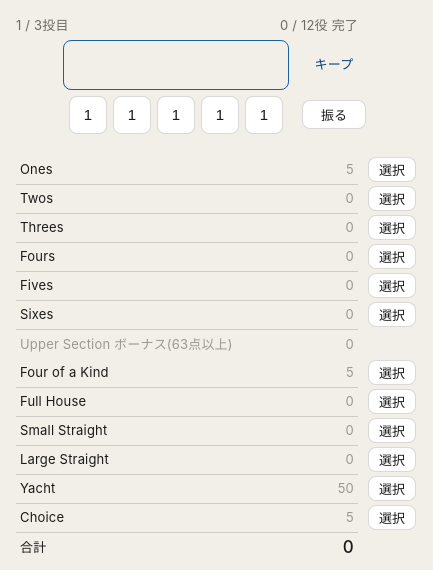
Test case: PlayScreen › 役を確定すると得点が固定表示になり選択ボタンが消え、完了数が増え、新しいターンとしてダイスが振り直される
The width and height of the screenshot is (433, 570).
Step 1. Click the button named "選択: Ones" → point(392, 170), box [368,157,416,182]
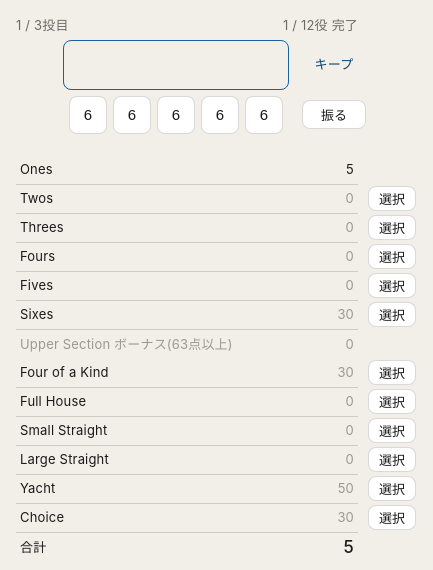
Check: the text "1 / 12役 完了" is shown, box [283,16,358,35]
Check: the button with test id "dice-0" reads "6", box [69,96,107,134]
Check: the button with test id "dice-1" reads "6", box [113,96,151,134]
